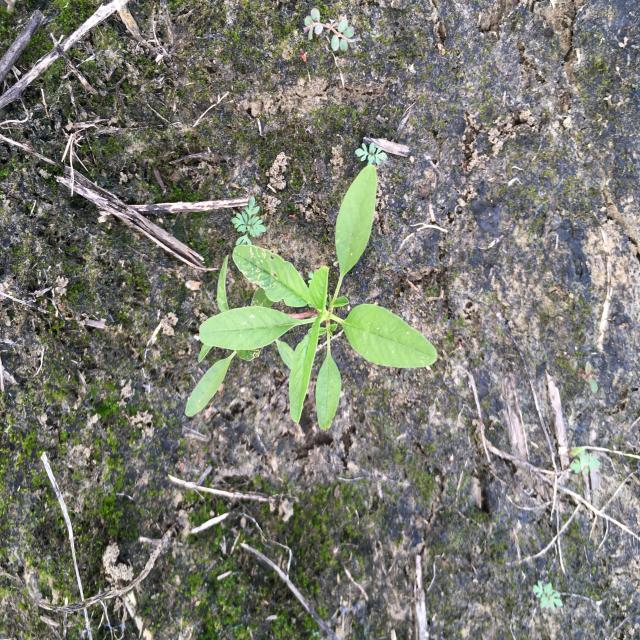Ragweed: (229, 195, 269, 251)
SpottedSpurge: (301, 8, 359, 54)
Waterhemp: (183, 161, 440, 435)
